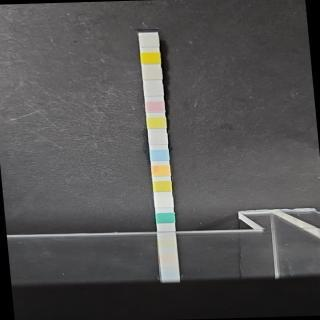mark: (151, 147, 169, 161), (155, 195, 173, 208), (154, 180, 172, 192), (152, 164, 170, 176), (150, 132, 168, 144), (148, 116, 166, 128), (146, 101, 164, 113), (144, 68, 162, 80), (142, 52, 160, 64), (141, 36, 159, 48), (156, 212, 174, 223), (145, 84, 163, 95)
